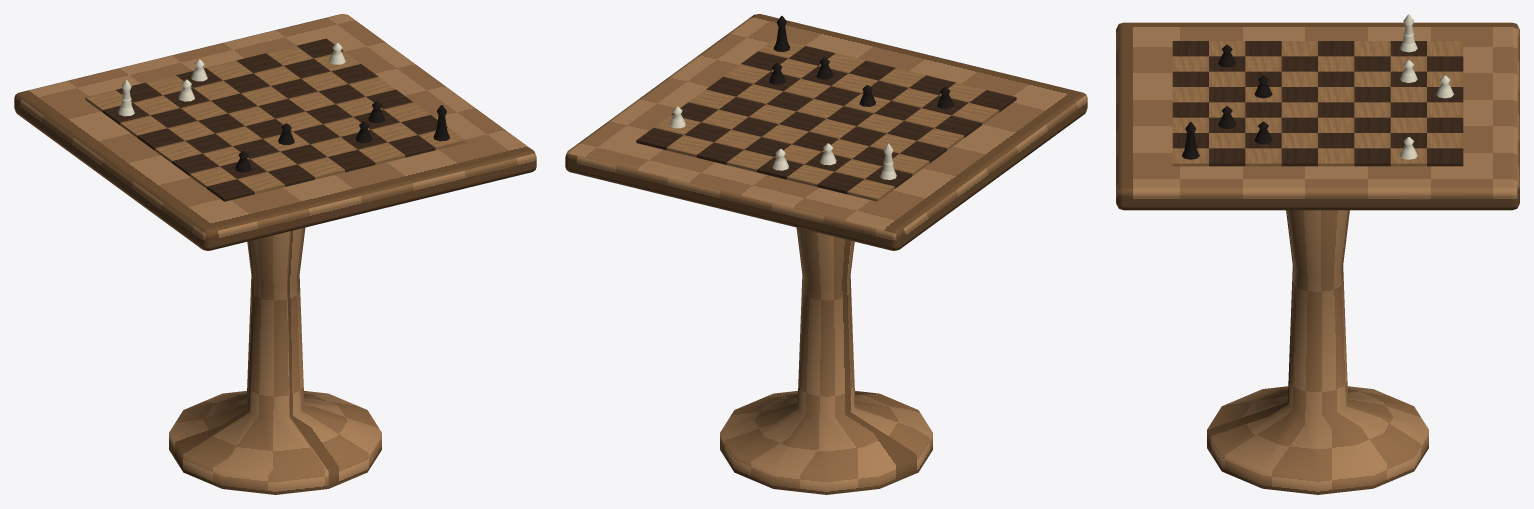
The model's file is chessTable.glb.
3 views of the same model, side by side, from view 1: azimuth 30°, elevation 25°; view 2: azimuth 150°, elevation 25°; view 3: azimuth 270°, elevation 25° (orthographic). The views are drawn at different scales.
Visible parts, largest first — view 1: dyn_wood_variant, chessTable; view 2: dyn_wood_variant, chessTable; view 3: dyn_wood_variant, chessTable.
Boxes of the visible parts, box(x1,y1,x2,y2) form: dyn_wood_variant: box(14, 14, 536, 494); chessTable: box(85, 38, 465, 201); dyn_wood_variant: box(565, 14, 1087, 494); chessTable: box(636, 16, 1016, 201); dyn_wood_variant: box(1116, 22, 1519, 494); chessTable: box(1172, 14, 1463, 166).
Bounding box in the file's own units: 0.8004 × 0.8311 × 0.8004.
Materials: 5 (3 with a texture image).
